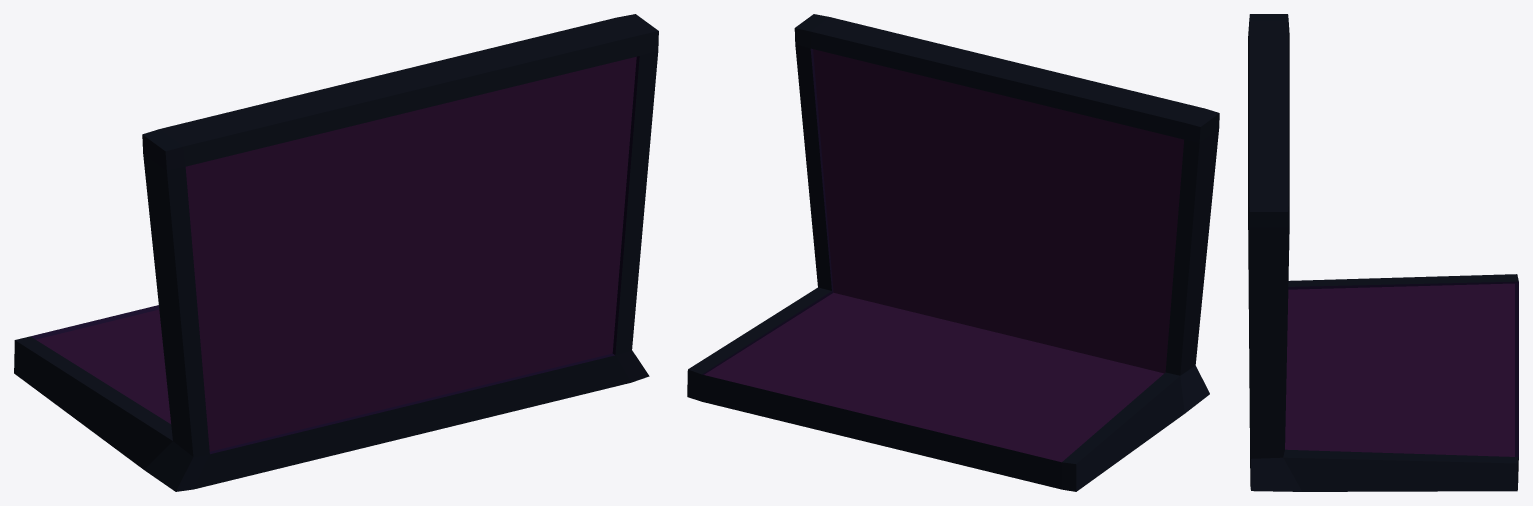
File: NotebookSamuel.fbx
3 renders of one model, left to right at view 1: azimuth 30°, elevation 25°; view 2: azimuth 150°, elevation 25°; view 3: azimuth 270°, elevation 25°, orthographic. The views are drawn at different scales.
Visible parts, largest first — view 1: NotebookSamuel; view 2: NotebookSamuel; view 3: NotebookSamuel.
Part boxes in pixels (x1,y1,x2,y2): NotebookSamuel: (14,14,658,491); NotebookSamuel: (687,14,1219,491); NotebookSamuel: (1248,14,1518,491).
Bounding box in the file's own units: 0.8144 × 0.5481 × 0.4709.
